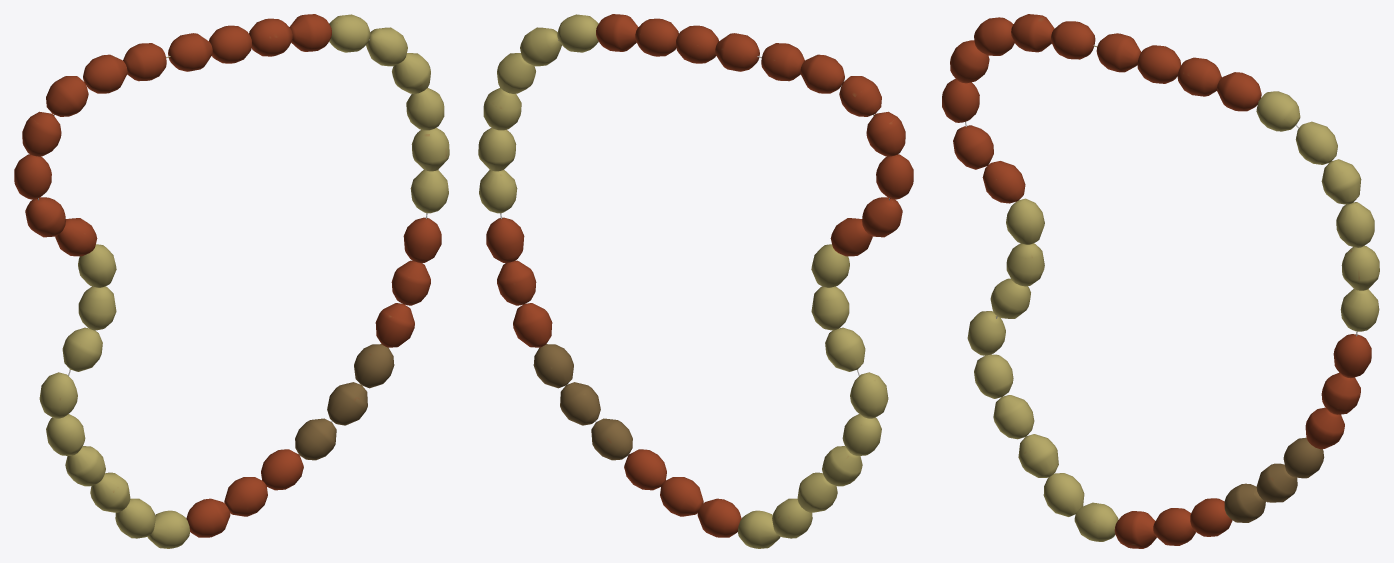
File: PangOp.glb
3 renders of one model, left to right at view 1: azimuth 30°, elevation 25°; view 2: azimuth 150°, elevation 25°; view 3: azimuth 330°, elevation 25°, orthographic.
Parts seen in each view (by area): view 1: PangOp; view 2: PangOp; view 3: PangOp.
Boxes of the visible parts, x1,y1,x2,y2 form: PangOp: (14,14,449,548); PangOp: (478,14,913,548); PangOp: (942,14,1379,548).
Bounding box in the file's own units: 6.84 × 7.72 × 0.5359.
1 material, 1 textured.
